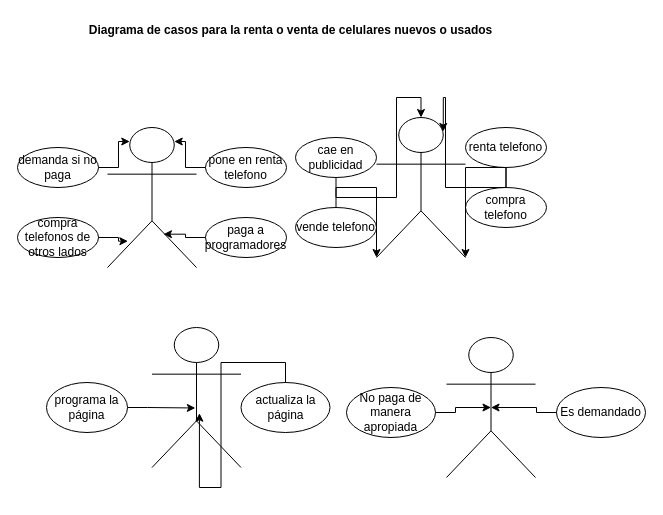
This 663x515 diagram has some shape labels left out. Each missing label, with the centre of its shape:
Cliente: the point at 421,187
Cliente malicioso: the point at 491,407
Programador: the point at 196,397
Vendedor de telefono: the point at 151,197
